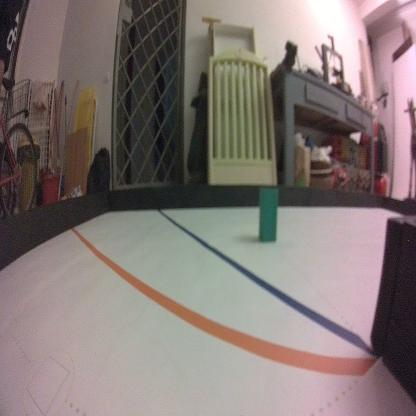green: (258, 186, 279, 244)
